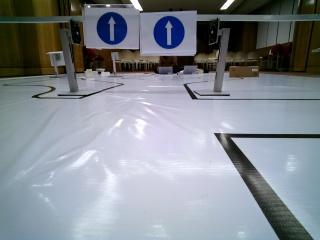straight: (138, 12, 195, 52), (85, 6, 139, 48)
